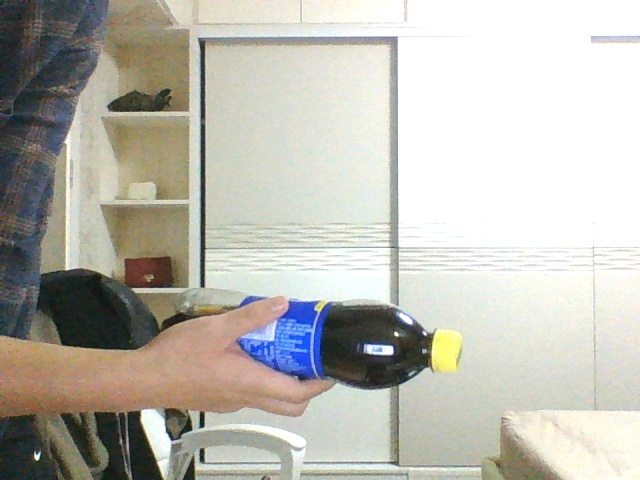Cola: (162, 287, 465, 392)
